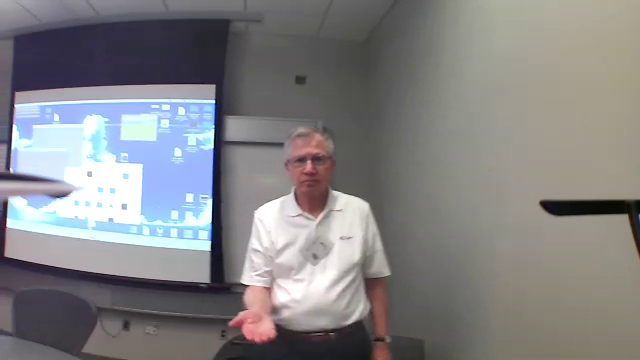land: (225, 310, 287, 344)
